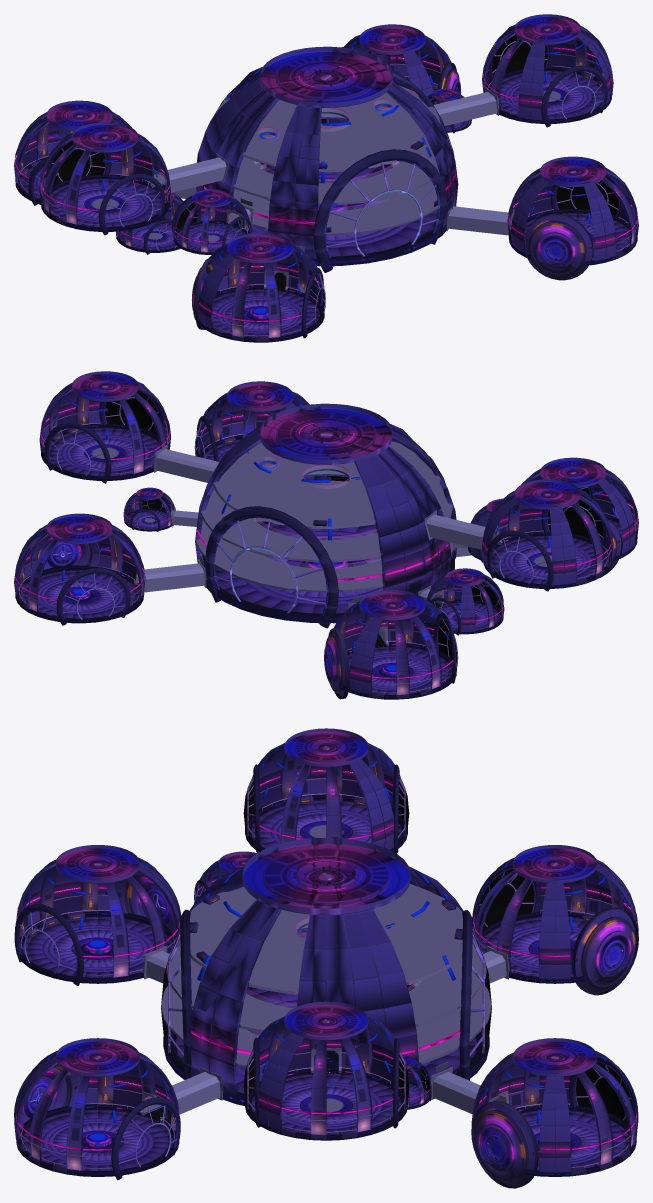
Rendered from station.glb.
3 views of the same model, one above another, from view 1: azimuth 30°, elevation 25°; view 2: azimuth 150°, elevation 25°; view 3: azimuth 270°, elevation 25° (orthographic). The views are drawn at different scales.
Parts seen in each view (by area): view 1: Station0, Station6, Station13, Station22, Station4, Station10, Station15, Station7, Station18, Station19, Station5, Station11 (+8 smaller); view 2: Station0, Station22, Station6, Station15, Station4, Station13, Station7, Station10, Station19, Station18, Station5, Station11 (+9 smaller); view 3: Station0, Station6, Station13, Station22, Station15, Station18, Station4, Station10, Station7, Station5, Station11, Station19 (+7 smaller).
Boxes of the visible parts, <box> form: Station0: <box>16,66,637,342</box>; Station6: <box>46,14,606,263</box>; Station13: <box>36,32,616,329</box>; Station22: <box>91,85,561,241</box>; Station4: <box>28,29,623,338</box>; Station10: <box>15,25,637,337</box>; Station15: <box>14,25,638,289</box>; Station7: <box>14,27,637,337</box>; Station18: <box>59,62,593,329</box>; Station19: <box>152,92,512,290</box>; Station5: <box>50,34,618,312</box>; Station11: <box>36,32,616,329</box>; Station0: <box>15,423,637,699</box>; Station22: <box>91,441,551,617</box>; Station6: <box>46,371,606,620</box>; Station15: <box>39,384,638,641</box>; Station4: <box>44,389,607,683</box>; Station13: <box>24,383,635,694</box>; Station7: <box>18,386,635,690</box>; Station10: <box>14,379,638,695</box>; Station19: <box>135,449,500,646</box>; Station18: <box>31,519,622,699</box>; Station5: <box>105,390,603,668</box>; Station11: <box>18,386,635,694</box>; Station0: <box>16,794,636,1176</box>; Station6: <box>56,728,596,1076</box>; Station13: <box>15,743,637,1172</box>; Station22: <box>161,825,491,1112</box>; Station15: <box>17,754,624,1122</box>; Station18: <box>14,870,638,1188</box>; Station4: <box>14,764,638,1180</box>; Station10: <box>17,732,637,1170</box>; Station7: <box>17,744,636,1170</box>; Station5: <box>161,775,633,1122</box>; Station11: <box>14,744,638,1171</box>; Station19: <box>143,951,508,1121</box>.
Size of what is drawn, in the model's own units: 164 by 43.31 by 126.
35 materials, 15 textured.
